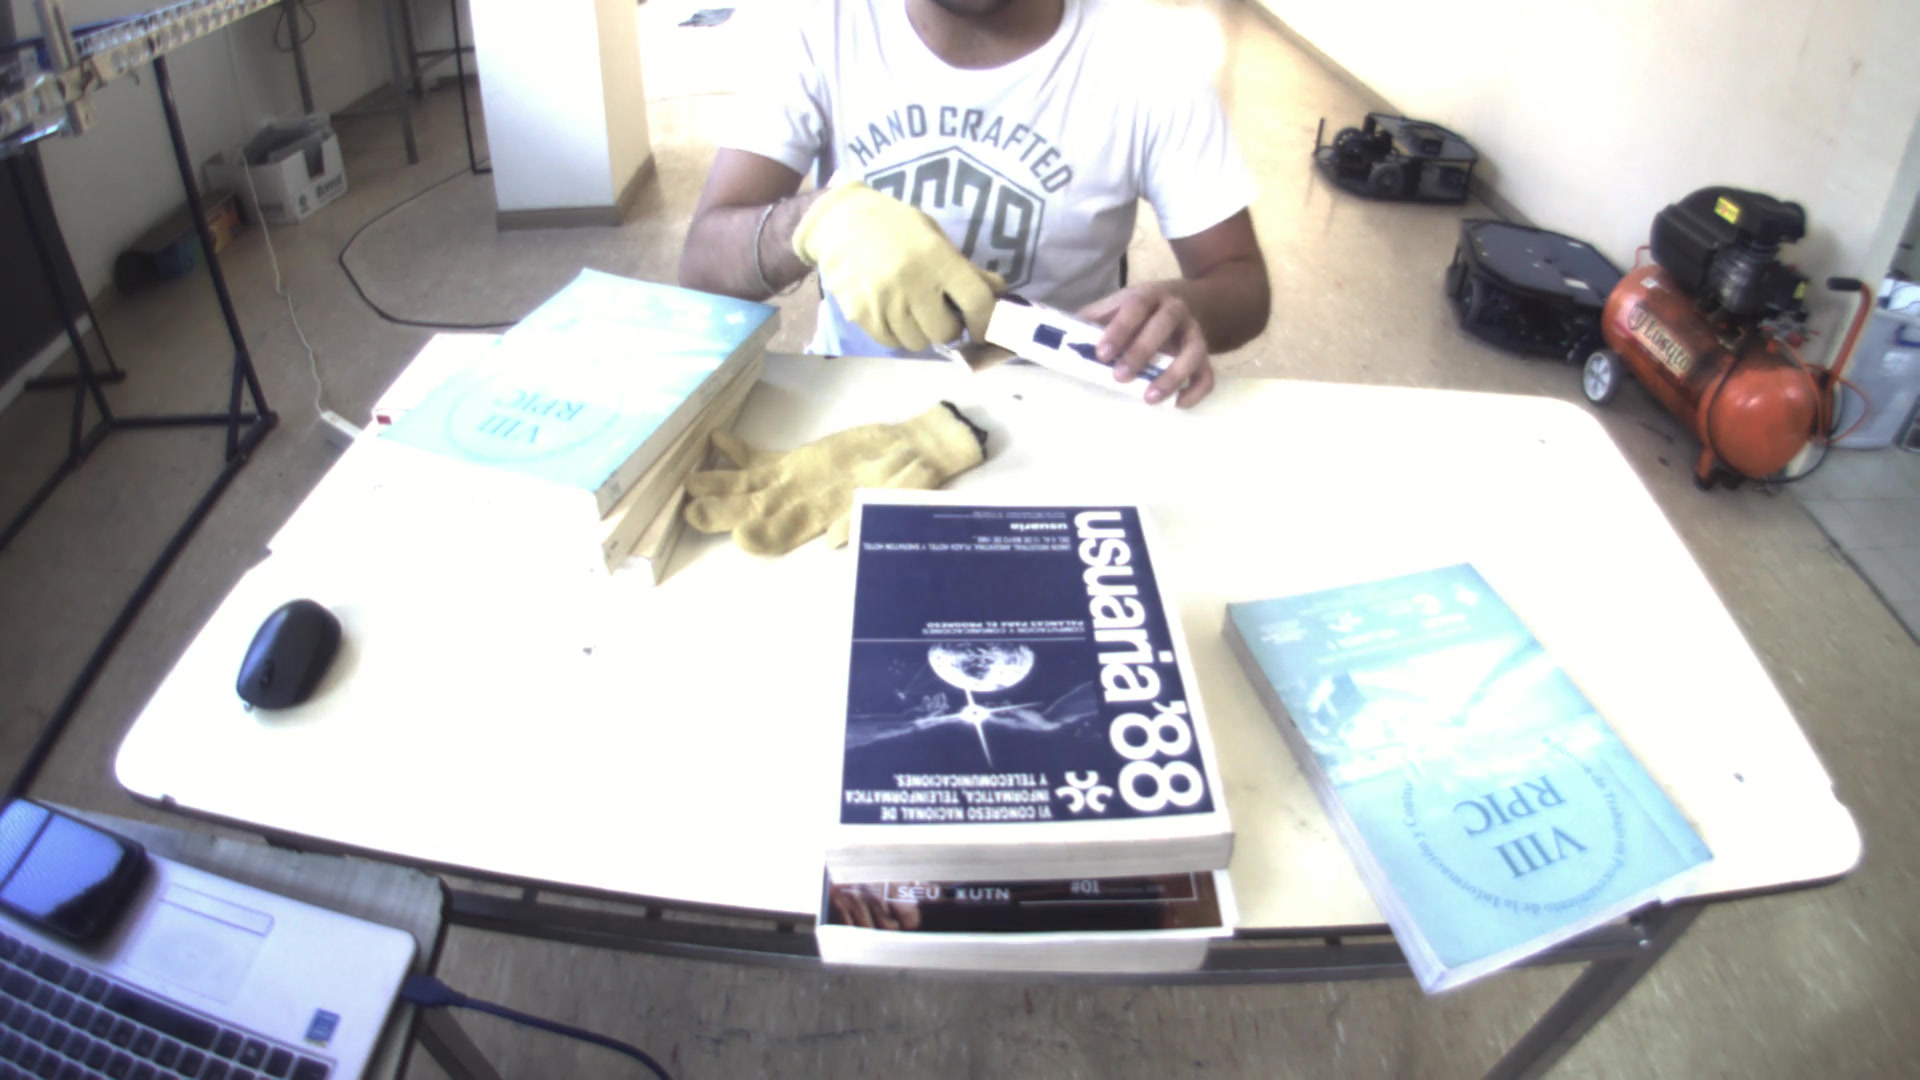hand: (793, 165, 1001, 355), (1079, 262, 1232, 405)
